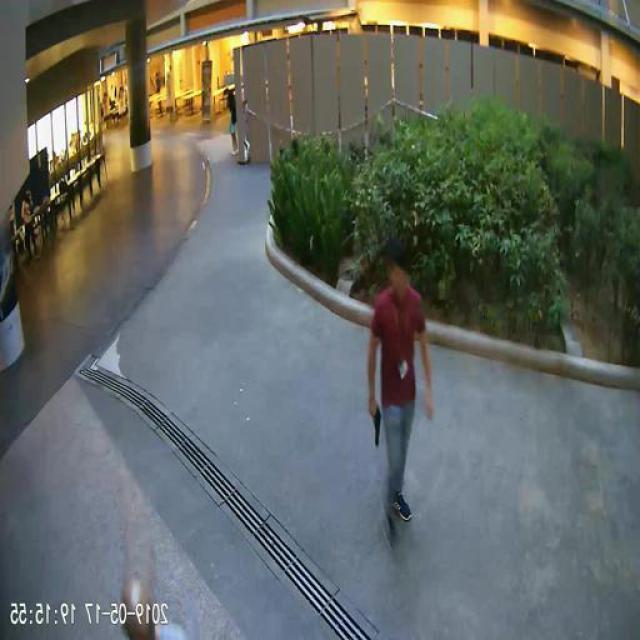Gun: (368, 401, 384, 445)
